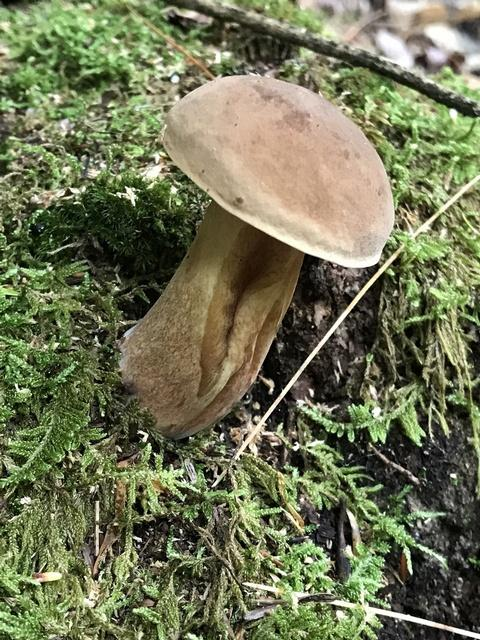poisonous_mushroom: (112, 72, 395, 441)
